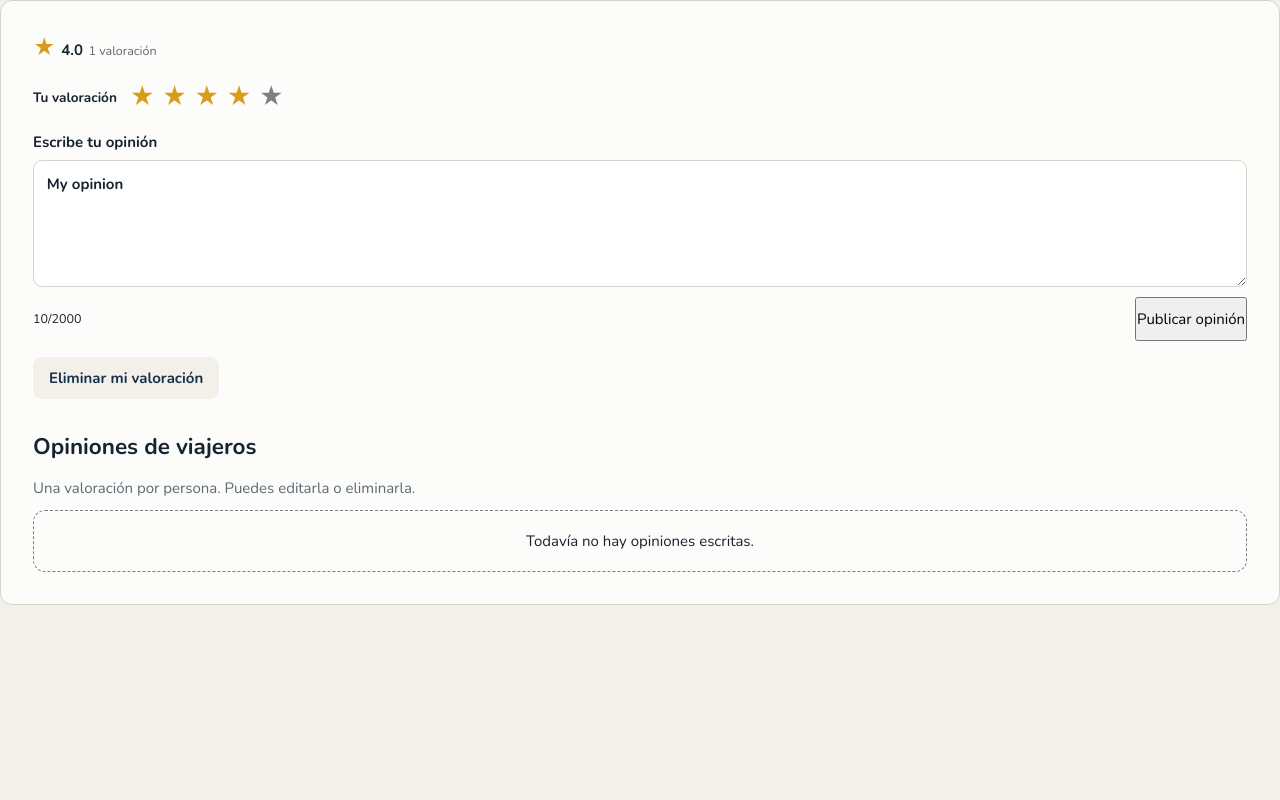
requires confirmation to delete the current user rating
The width and height of the screenshot is (1280, 800).
Click the button "Eliminar mi valoración". click: (126, 378)
box: [33,357,219,399]
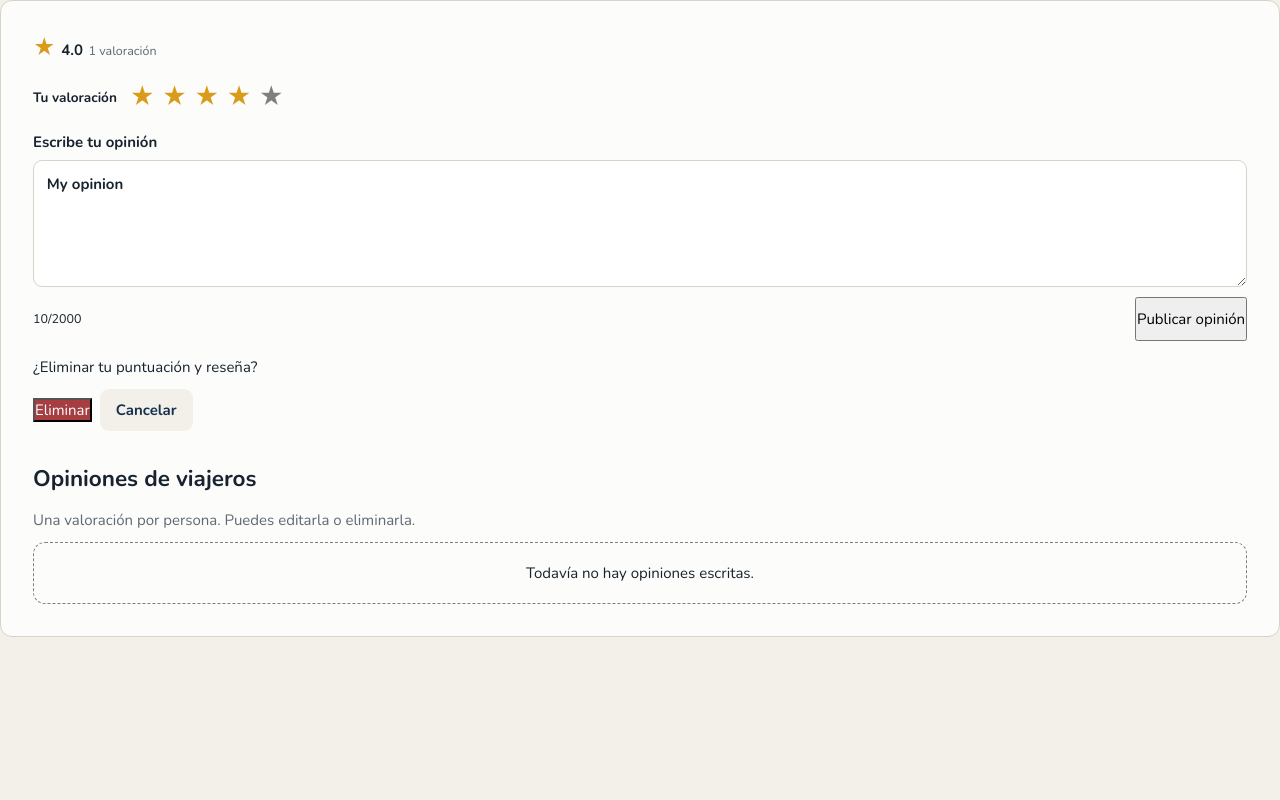
Click the button "Eliminar". click: (62, 410)
box: [33,398,92,422]
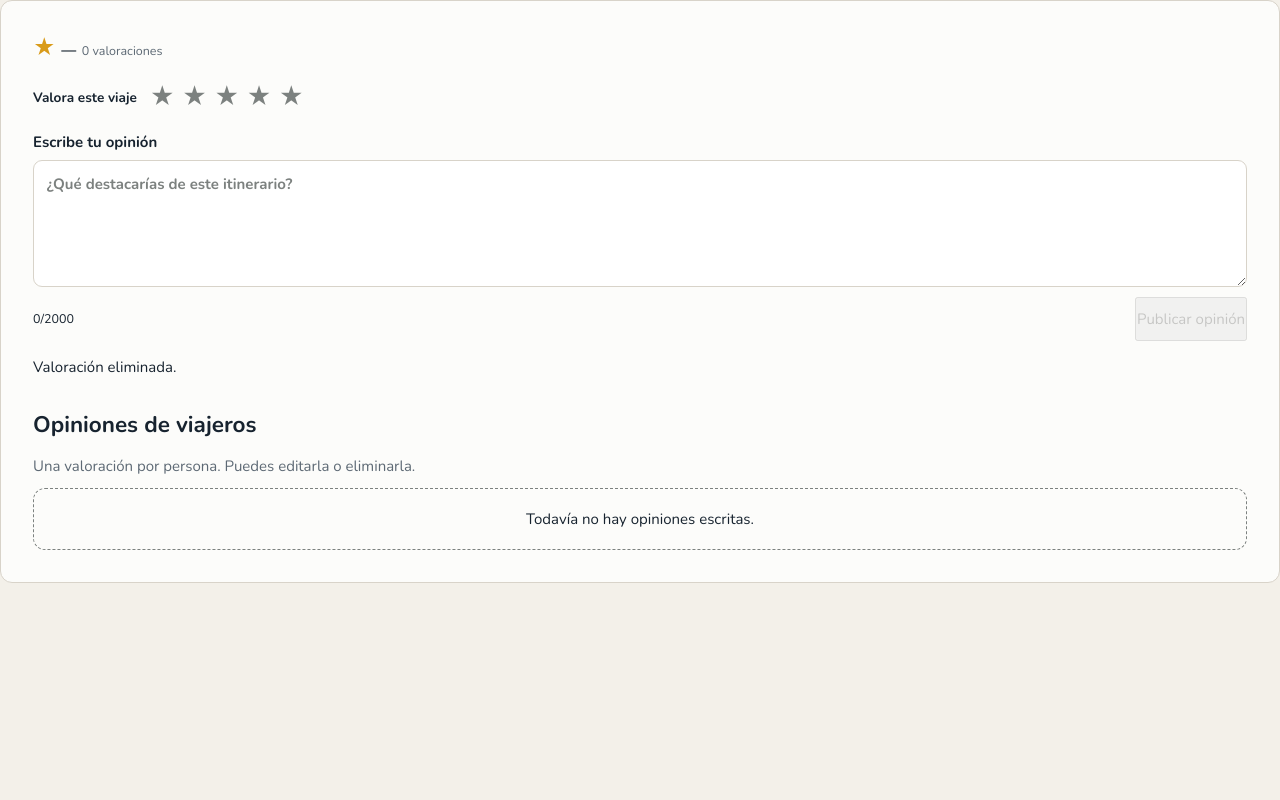
Expected: the text "Valoración eliminada." is shown, [33,357,176,377]
Expected: the text box is empty, [33,160,1247,287]
